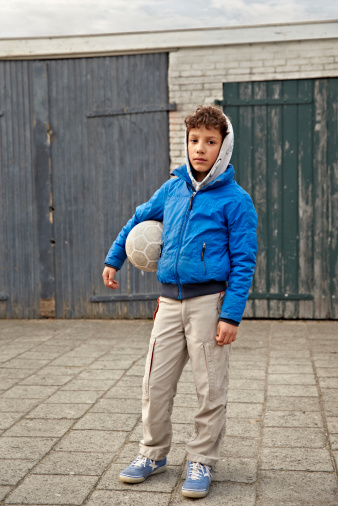em pe: (99, 112, 256, 484)
